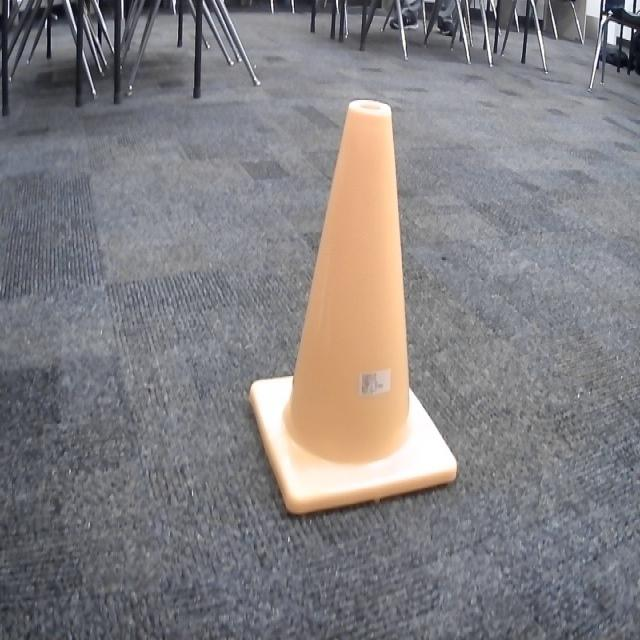cone: (246, 93, 459, 516)
